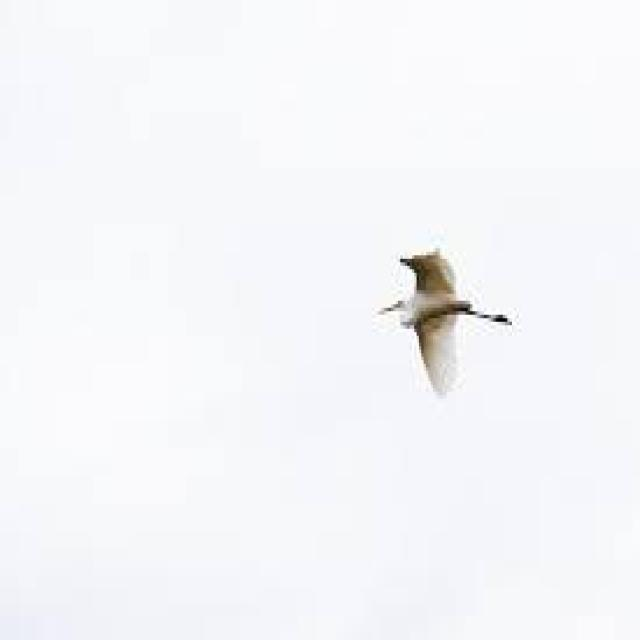bird: (373, 234, 518, 406)
